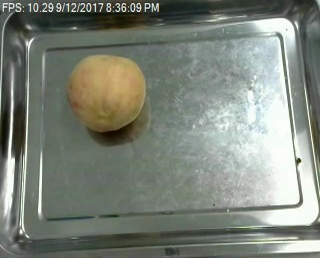Peach: (66, 53, 146, 132)
